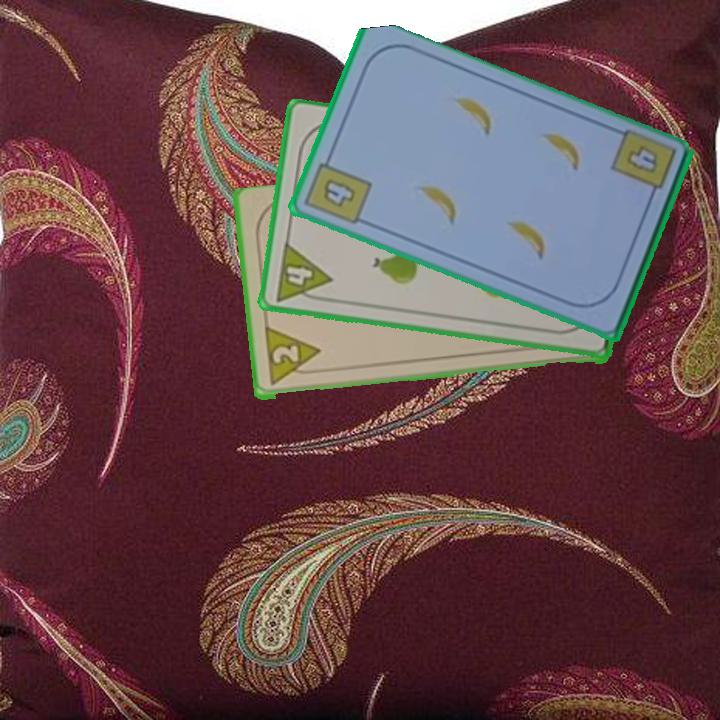2p: (268, 342, 301, 368)
4b: (301, 150, 375, 228), (622, 142, 661, 177)
4p: (271, 239, 334, 306)
